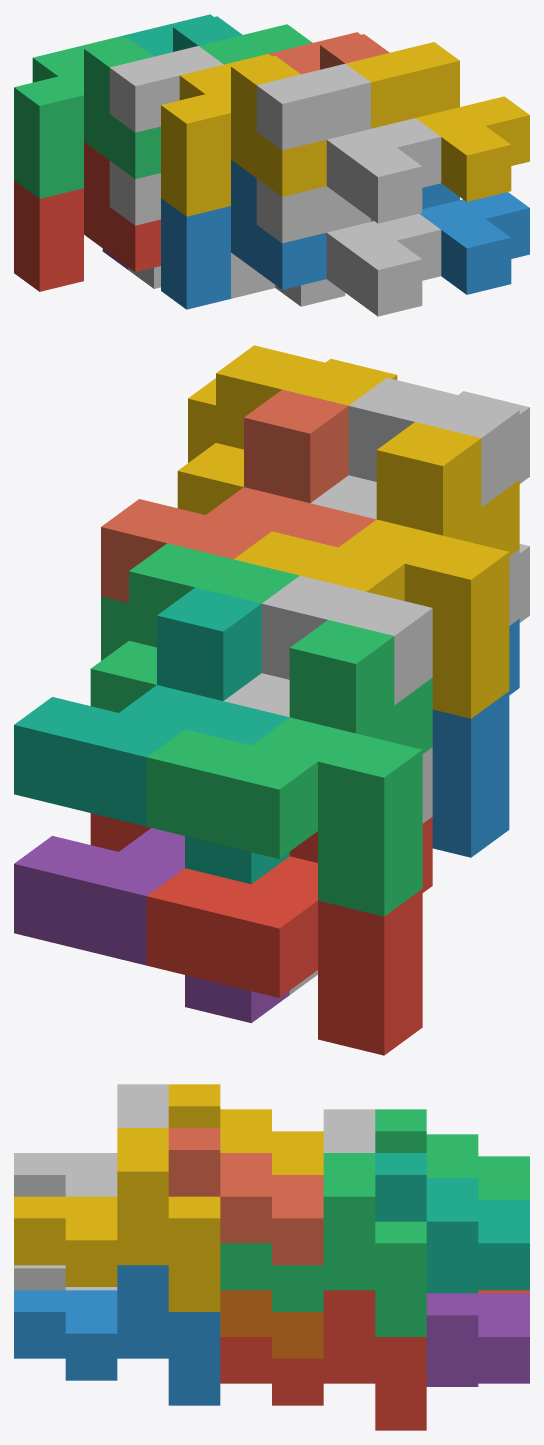
File: tiling.obj
The picture shows the model from 3 angles, top to bottom: view 1: azimuth 30°, elevation 25°; view 2: azimuth 150°, elevation 25°; view 3: azimuth 270°, elevation 25°; orthographic projection. The views are drawn at different scales.
Visible parts, largest first — view 1: copy_2_domain_4, copy_1_domain_4, copy_1_domain_3, copy_2_domain_2, copy_2_domain_8, copy_1_domain_2, copy_1_domain_1, copy_2_domain_6, copy_2_domain_3, copy_2_domain_1, copy_1_domain_8, copy_1_domain_7 (+1 smaller); view 2: copy_1_domain_3, copy_1_domain_4, copy_1_domain_1, copy_1_domain_7, copy_1_domain_8, copy_1_domain_5, copy_2_domain_8, copy_2_domain_4, copy_2_domain_7, copy_2_domain_3, copy_1_domain_2, copy_2_domain_2 (+2 smaller); view 3: copy_2_domain_8, copy_2_domain_7, copy_2_domain_6, copy_2_domain_5, copy_1_domain_7, copy_1_domain_8, copy_1_domain_5, copy_1_domain_4, copy_1_domain_3, copy_2_domain_4, copy_1_domain_6, copy_2_domain_3 (+1 smaller).
Part boxes in pixels (x1,y1,x2,y2): copy_2_domain_4: (256,63,441,223); copy_1_domain_4: (161,54,326,216); copy_1_domain_3: (14,36,160,198); copy_2_domain_2: (256,178,441,316); copy_2_domain_8: (346,42,529,201); copy_1_domain_2: (161,159,326,309); copy_1_domain_1: (14,142,160,291); copy_2_domain_6: (371,183,529,294); copy_2_domain_3: (109,46,223,132); copy_2_domain_1: (109,161,275,298); copy_1_domain_8: (269,32,389,74); copy_1_domain_7: (122,14,242,56); copy_1_domain_3: (146,620,432,916); copy_1_domain_4: (234,422,519,718); copy_1_domain_1: (146,817,432,1055); copy_1_domain_7: (14,587,289,884); copy_1_domain_8: (101,389,376,603); copy_1_domain_5: (14,828,289,1023); copy_2_domain_8: (177,345,397,514); copy_2_domain_4: (310,378,529,519); copy_2_domain_7: (90,543,299,712); copy_2_domain_3: (223,575,432,717); copy_1_domain_2: (432,619,519,857); copy_2_domain_2: (509,544,529,625); copy_2_domain_8: (14,1128,220,1311); copy_2_domain_7: (220,1153,426,1336); copy_2_domain_6: (14,1265,220,1405); copy_2_domain_5: (220,1290,426,1430); copy_1_domain_7: (375,1153,529,1293); copy_1_domain_8: (168,1128,323,1265); copy_1_domain_5: (426,1293,529,1386); copy_1_domain_4: (168,1084,323,1174); copy_1_domain_3: (375,1109,529,1199); copy_2_domain_4: (14,1084,168,1196); copy_1_domain_6: (220,1290,323,1358); copy_2_domain_3: (323,1109,375,1152).
Size of the model in its own units: 7 by 6 by 10.
